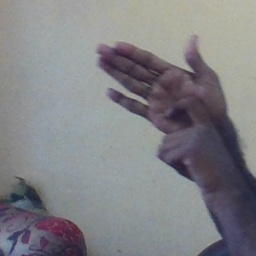R: (92, 27, 231, 175)
